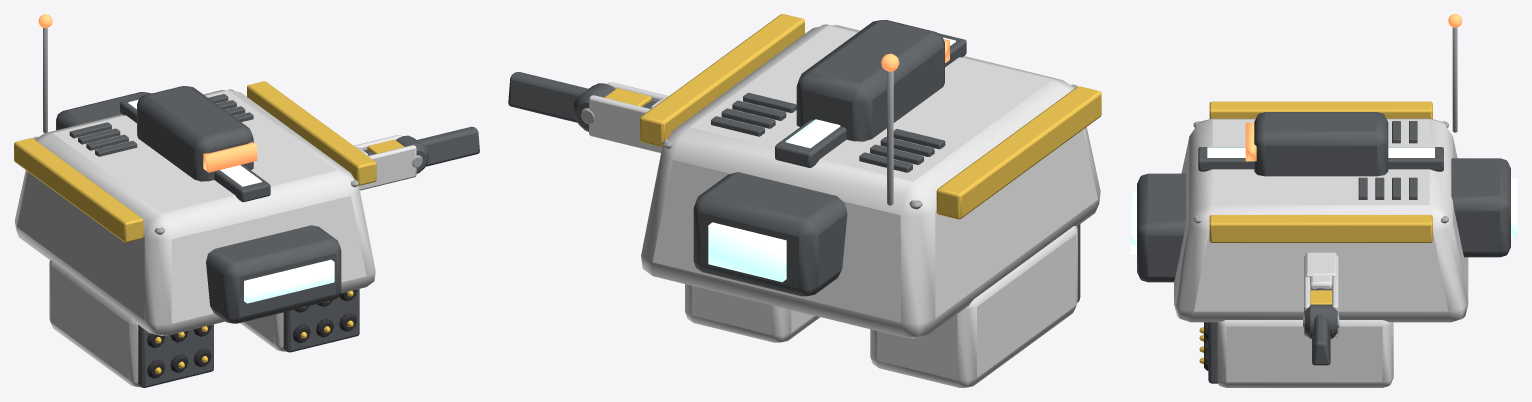
The model's file is missile.glb.
3 renders of one model, left to right at view 1: azimuth 30°, elevation 25°; view 2: azimuth 150°, elevation 25°; view 3: azimuth 270°, elevation 25°, orthographic. The views are drawn at different scales.
Visible parts, largest first — view 1: Hull, Barrel, Turret, LegUpper, LegLower; view 2: Hull, Barrel, Turret, LegUpper, LegLower; view 3: Hull, Barrel, Turret, LegUpper, LegLower.
Part boxes in pixels (x1,y1,x2,y2): Hull: (14,14,376,335); Barrel: (49,260,359,387); Turret: (137,86,257,181); LegUpper: (354,135,428,190); LegLower: (356,126,479,166); Hull: (640,14,1101,338); Barrel: (685,224,1080,387); Turret: (796,20,949,141); LegUpper: (573,82,668,152); LegLower: (508,72,666,122); Hull: (1130,14,1517,322); Barrel: (1199,320,1393,387); Turret: (1245,112,1388,176); LegUpper: (1303,252,1339,338); LegLower: (1310,275,1332,365).
Size of the model in its own units: 0.84 by 0.558 by 0.694.
